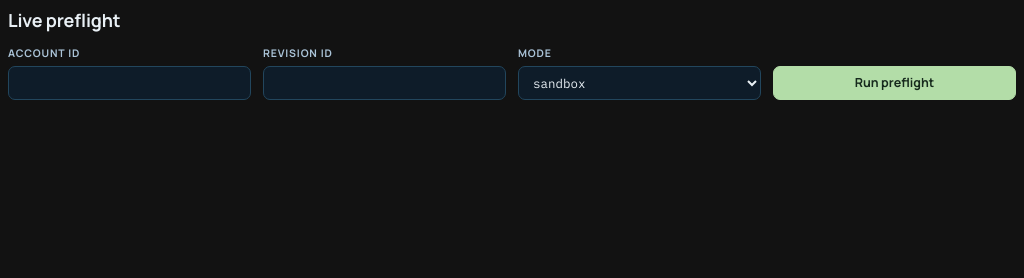
Test: LivePreflight Signal layout — verdict panel › keeps a refusal verdict honest with the coral tone, never sage
Type "acct-1" into the field with test id "live-preflight-account". click: (130, 83)
box: [8, 66, 251, 100]
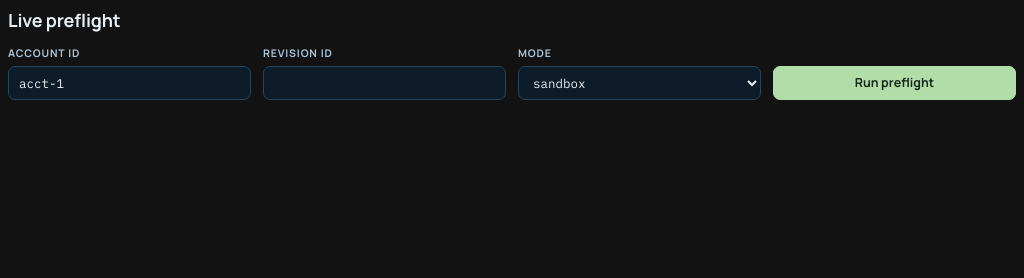
Type "rev-1" into the field with test id "live-preflight-revision". click: (384, 83)
box: [263, 66, 506, 100]
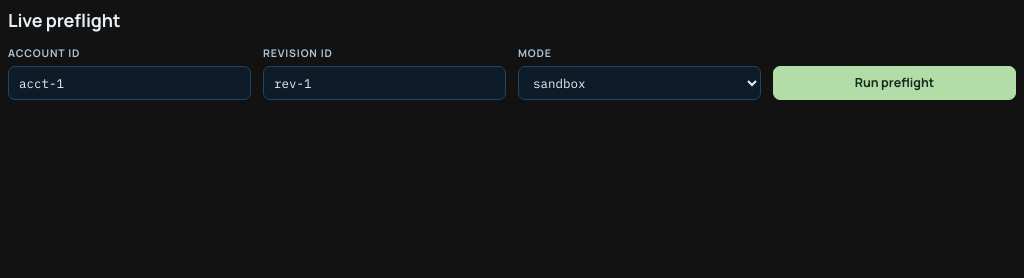
Click the button with test id "live-preflight-submit". click: (894, 83)
box: [773, 66, 1016, 100]
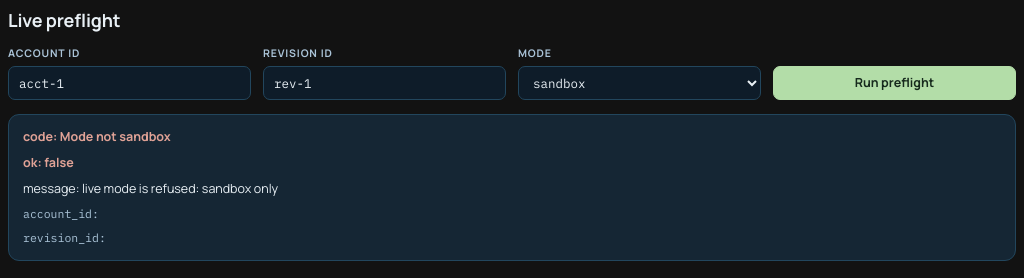
Check: the element with test id "live-preflight-result" shows "code: Mode not sandbox", box [8, 114, 1016, 261]
Check: the element with test id "live-preflight-result" shows "ok: false", box [8, 114, 1016, 261]
